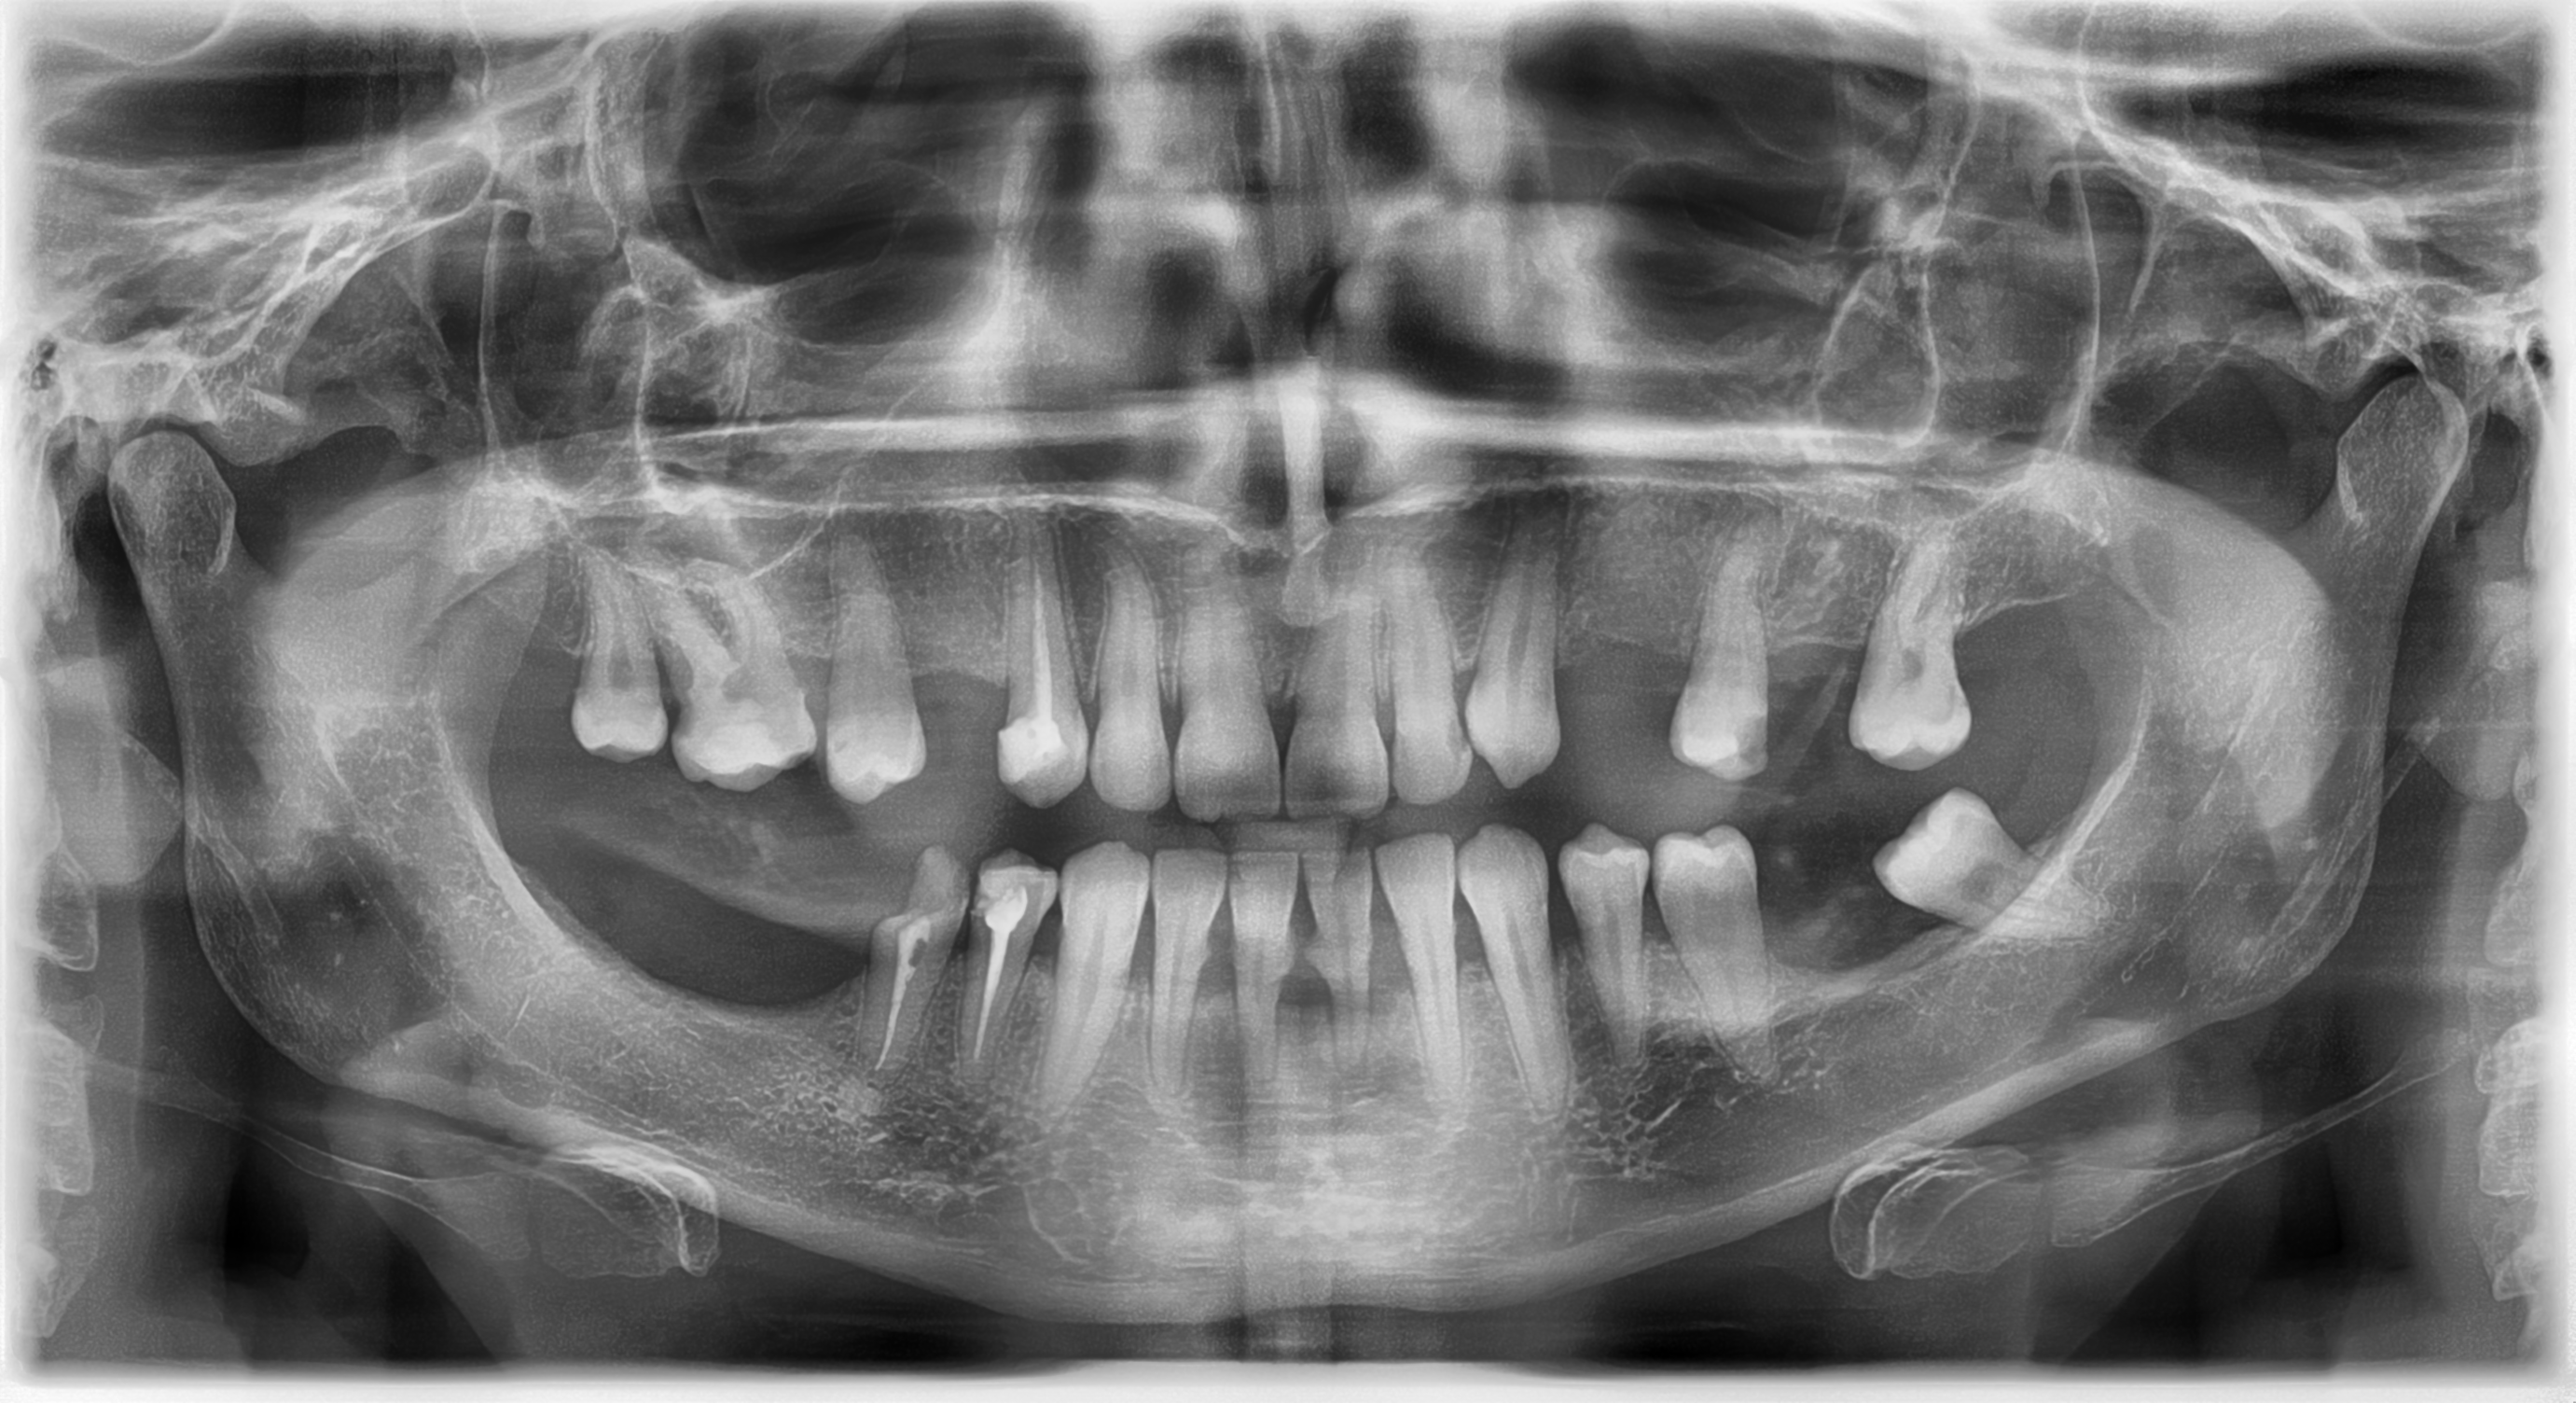cordal: (1803, 524, 2082, 781), (1842, 750, 2120, 1007), (509, 501, 708, 810)
resto_radicular: (843, 829, 979, 1097)
tratamiento_conducto: (962, 491, 1115, 836), (938, 817, 1074, 1125)
zona_dentula: (599, 848, 905, 1075), (849, 594, 1086, 798), (1735, 821, 1973, 1023), (1514, 577, 1752, 779), (1699, 568, 1937, 771)
